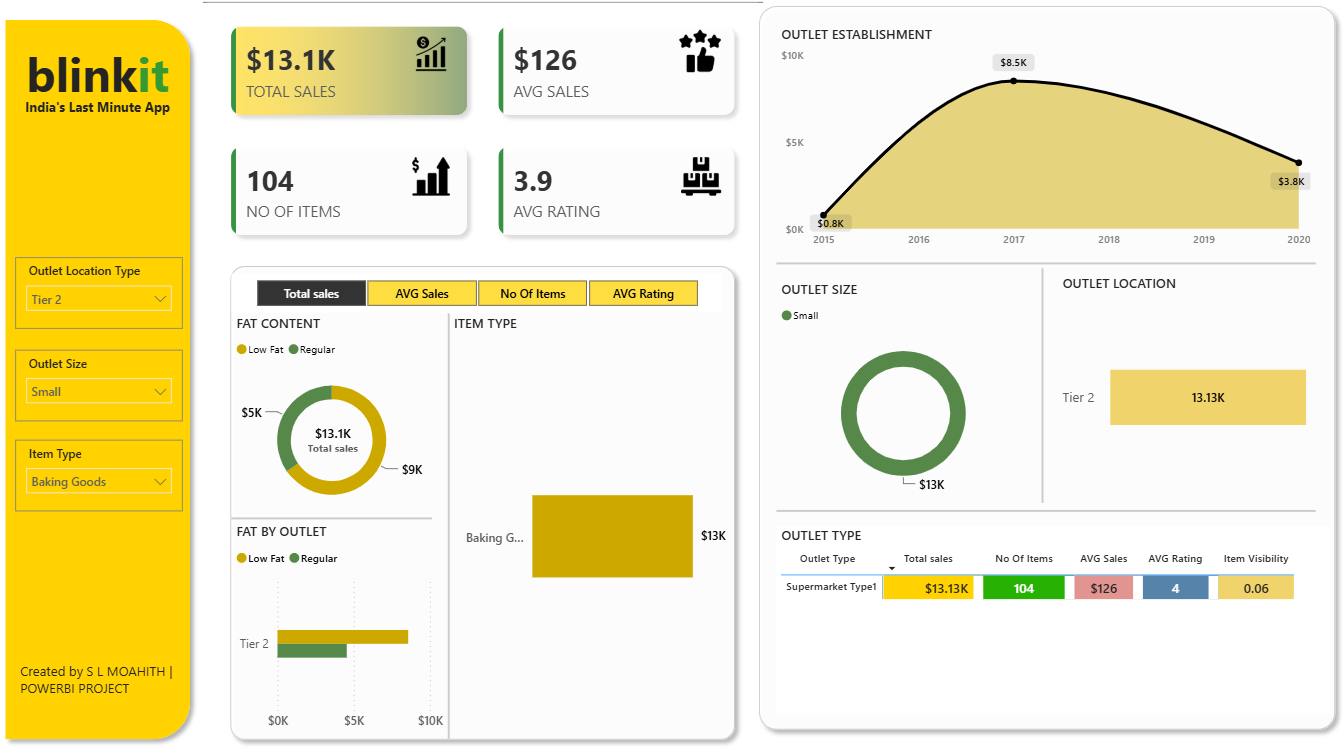

This screenshot's page, from the dashboard's own definition file:
{"tool":"powerbi","page":{"name":"Page 1","canvas":[1400,800],"ordinal":0},"visuals":[{"type":"shape","box":[18,26,206,750],"z":0},{"type":"textbox","box":[42.9,51.4,181.4,95.7],"z":1000},{"type":"textbox","box":[41.4,110,160,37.1],"z":2000},{"type":"cardVisual","fields":{"Data":["BlinkIT Grocery Data.Total sales","BlinkIT Grocery Data.AVG Sales","BlinkIT Grocery Data.No Of Items","BlinkIT Grocery Data.AVG Rating"]},"box":[227.1,11.4,570,270],"z":3000},{"type":"image","box":[411.4,51.4,98.6,35.7],"z":4000},{"type":"image","box":[624.3,44.3,218.6,42.9],"z":5000},{"type":"image","box":[685.7,172.9,98.6,41.4],"z":6000},{"type":"image","box":[411.4,172.9,98.6,41.4],"z":7000},{"type":"shape","box":[247.1,275.7,531.4,500],"z":8000},{"type":"donutChart","title":"FAT CONTENT","fields":{"Y":["BlinkIT Grocery Data.Total sales"],"Category":["BlinkIT Grocery Data.Item Fat Content"]},"box":[257.1,332.9,204.3,212.9],"z":9000},{"type":"slicer","fields":{"Values":["Metrics.Metrics"]},"box":[257.1,292.9,498.6,40],"z":10000},{"type":"cardVisual","fields":{"Data":["BlinkIT Grocery Data.Total sales"]},"box":[297.6,431.1,113.2,61],"z":11000},{"type":"clusteredBarChart","title":"FAT BY OUTLET","fields":{"Y":["BlinkIT Grocery Data.Total sales"],"Category":["BlinkIT Grocery Data.Outlet Location Type"],"Series":["BlinkIT Grocery Data.Item Fat Content"]},"box":[257.1,545.7,220,220],"z":12000},{"type":"shape","box":[257.1,525.7,204.3,32.9],"z":13000},{"type":"shape","box":[462.9,332.9,30,432.9],"z":14000},{"type":"barChart","title":"ITEM TYPE","fields":{"Y":["BlinkIT Grocery Data.Total sales"],"Category":["BlinkIT Grocery Data.Item Type"]},"box":[478.6,332.9,287.1,432.9],"z":15000},{"type":"shape","box":[784.3,11.4,604.3,754.3],"z":16000},{"type":"lineChart","title":"OUTLET ESTABLISHMENT","fields":{"Y":["BlinkIT Grocery Data.Total sales"],"Category":["BlinkIT Grocery Data.Outlet Establishment Year"]},"box":[811.4,40,548.6,235.7],"z":17000},{"type":"shape","box":[811.4,265.7,548.6,32.9],"z":18000},{"type":"donutChart","title":"OUTLET SIZE","fields":{"Y":["BlinkIT Grocery Data.Total sales"],"Category":["BlinkIT Grocery Data.Outlet Size"]},"box":[811.4,298.6,258.6,227.1],"z":19000},{"type":"shape","box":[1067.1,287.1,30,238.6],"z":20000},{"type":"funnel","title":"OUTLET LOCATION","fields":{"Category":["BlinkIT Grocery Data.Outlet Location Type"],"Y":["Sum(BlinkIT Grocery Data.Sales)"]},"box":[1097.1,292.9,262.9,232.9],"z":21000},{"type":"shape","box":[811.4,517.1,548.6,32.9],"z":22000},{"type":"pivotTable","title":"OUTLET TYPE","fields":{"Rows":["BlinkIT Grocery Data.Outlet Type"],"Values":["BlinkIT Grocery Data.Total sales","BlinkIT Grocery Data.No Of Items","BlinkIT Grocery Data.AVG Sales","BlinkIT Grocery Data.AVG Rating","Avg(BlinkIT Grocery Data.Item Visibility)"]},"box":[811.4,550,562.9,190],"z":23000},{"type":"slicer","fields":{"Values":["BlinkIT Grocery Data.Outlet Location Type"]},"box":[36.2,276.2,170,72.5],"z":24000},{"type":"slicer","fields":{"Values":["BlinkIT Grocery Data.Outlet Size"]},"box":[36.2,370,170,72.5],"z":25000},{"type":"slicer","fields":{"Values":["BlinkIT Grocery Data.Item Type"]},"box":[36.2,461.2,170,72.5],"z":26000},{"type":"textbox","box":[36.7,683.3,180,56.7],"z":26002}]}

Visuals, with their boxes in screenshot pixels (x1, y1, x2, y2), scaled from the page's 1400x800 canvas onto the 1343x756 screenshot:
shape: 17 25 215 733
textbox: 41 49 215 139
textbox: 40 104 193 139
cardVisual - BlinkIT Grocery Data.Total sales x BlinkIT Grocery Data.AVG Sales: 218 11 765 266
image: 395 49 489 82
image: 599 42 809 82
image: 658 163 752 203
image: 395 163 489 203
shape: 237 261 747 733
"FAT CONTENT" donutChart: 247 315 443 516
slicer - Metrics.Metrics: 247 277 725 315
cardVisual - BlinkIT Grocery Data.Total sales: 285 407 394 465
"FAT BY OUTLET" clusteredBarChart: 247 516 458 724
shape: 247 497 443 528
shape: 444 315 473 724
"ITEM TYPE" barChart: 459 315 735 724
shape: 752 11 1332 724
"OUTLET ESTABLISHMENT" lineChart: 778 38 1305 261
shape: 778 251 1305 282
"OUTLET SIZE" donutChart: 778 282 1026 497
shape: 1024 271 1052 497
"OUTLET LOCATION" funnel: 1052 277 1305 497
shape: 778 489 1305 520
"OUTLET TYPE" pivotTable: 778 520 1318 699
slicer - BlinkIT Grocery Data.Outlet Location Type: 35 261 198 330
slicer - BlinkIT Grocery Data.Outlet Size: 35 350 198 418
slicer - BlinkIT Grocery Data.Item Type: 35 436 198 504
textbox: 35 646 208 699
